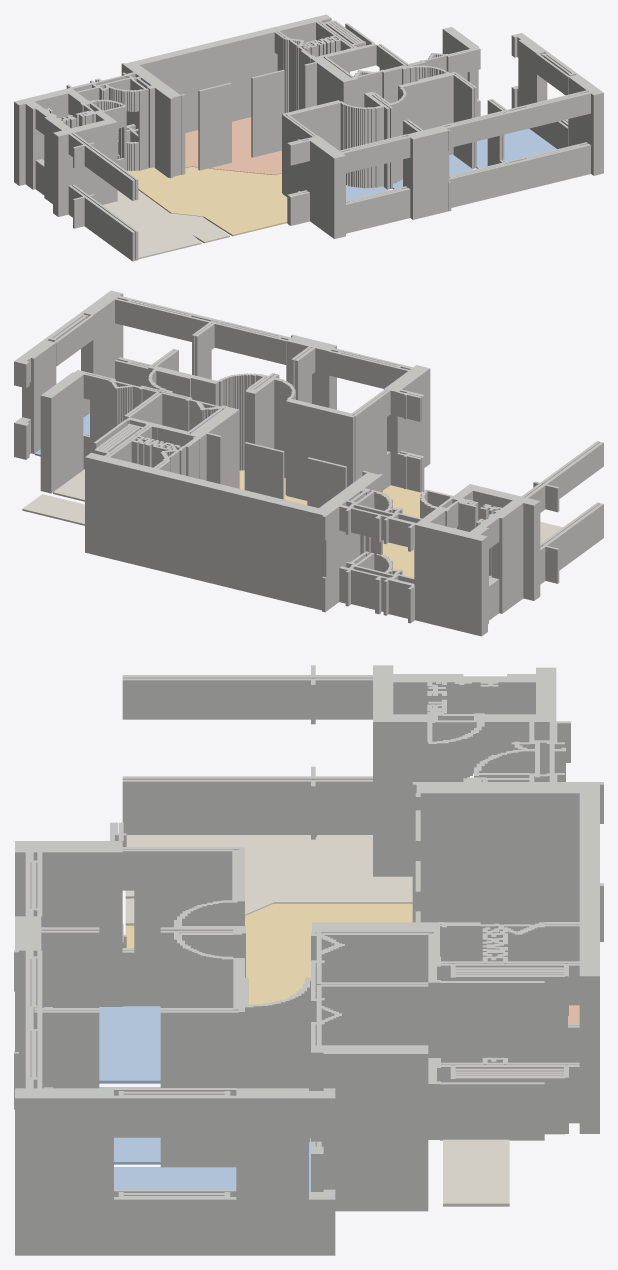
The picture shows the model from 3 angles, top to bottom: view 1: azimuth 30°, elevation 25°; view 2: azimuth 150°, elevation 25°; view 3: azimuth 270°, elevation 25°; orthographic projection. The views are drawn at different scales.
Parts seen in each view (by area): view 1: walls, room:living:1, room:other:2, room:kitchen:0, room:bedroom:3, room:bedroom:5, room:bedroom:4; view 2: walls, room:living:1, room:other:8, room:other:11; view 3: walls, room:other:2, room:living:1, room:bedroom:4, room:other:8, room:bedroom:3, room:bedroom:5.
Boxes of the visible parts, x1=… form: walls: x1=14, y1=14, x2=603, y2=261; room:living:1: x1=127, y1=167, x2=287, y2=236; room:other:2: x1=102, y1=190, x2=229, y2=259; room:kitchen:0: x1=185, y1=117, x2=281, y2=175; room:bedroom:3: x1=476, y1=128, x2=556, y2=168; room:bedroom:5: x1=392, y1=154, x2=472, y2=188; room:bedroom:4: x1=346, y1=185, x2=387, y2=200; walls: x1=14, y1=290, x2=603, y2=636; room:living:1: x1=239, y1=470, x2=456, y2=577; room:other:8: x1=22, y1=494, x2=84, y2=525; room:other:11: x1=53, y1=469, x2=84, y2=501; walls: x1=14, y1=665, x2=603, y2=1255; room:other:2: x1=125, y1=835, x2=412, y2=925; room:living:1: x1=125, y1=903, x2=412, y2=1004; room:bedroom:4: x1=44, y1=1006, x2=160, y2=1083; room:other:8: x1=443, y1=1139, x2=509, y2=1206; room:bedroom:3: x1=114, y1=1138, x2=310, y2=1191; room:bedroom:5: x1=44, y1=1087, x2=160, y2=1164.
Bounding box in the file's own units: 16.51 × 2.8 × 9.51.
